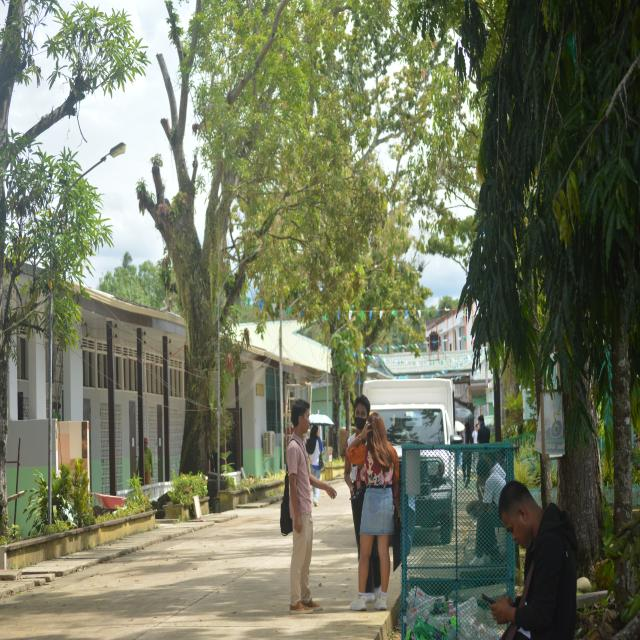person: (491, 481, 576, 639), (287, 399, 336, 613), (348, 412, 399, 610), (345, 453, 366, 560), (306, 425, 323, 480), (477, 414, 490, 444), (144, 438, 152, 484)
